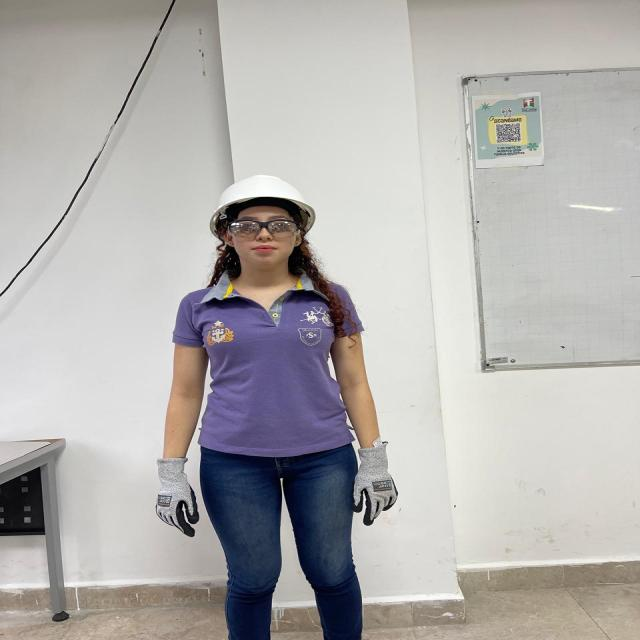gloves: (351, 441, 400, 527), (153, 459, 201, 538)
helmet: (209, 175, 316, 242)
protective_glasses: (227, 218, 299, 239)
